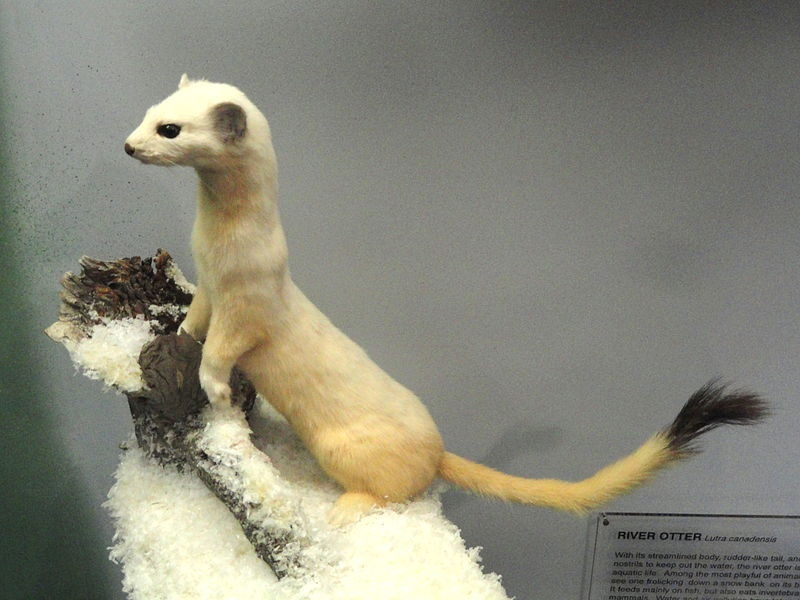minkish: (115, 70, 758, 512)
